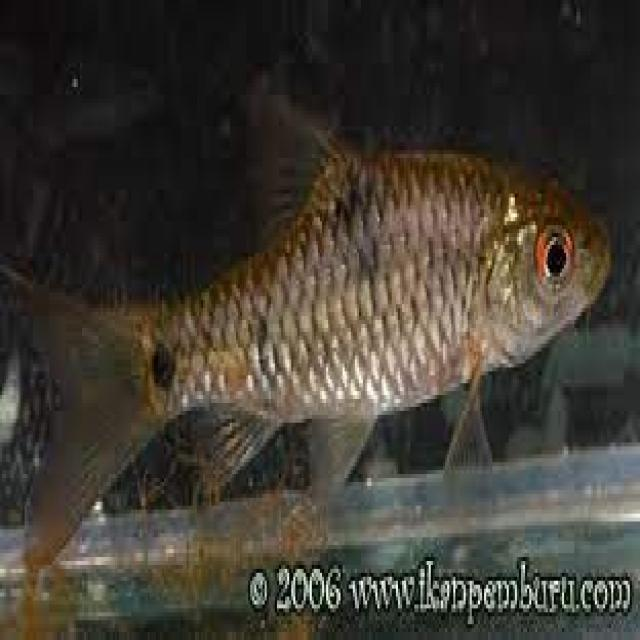Black-Spotted-Barb: (0, 63, 634, 530)
